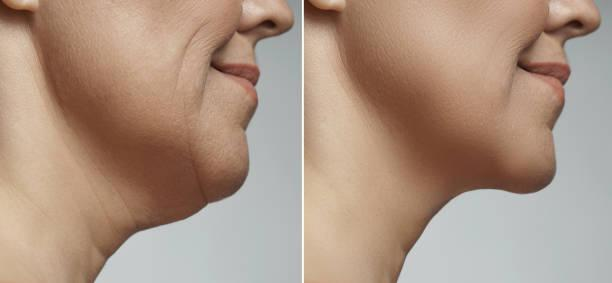Dry-Skin: (56, 5, 211, 201)
